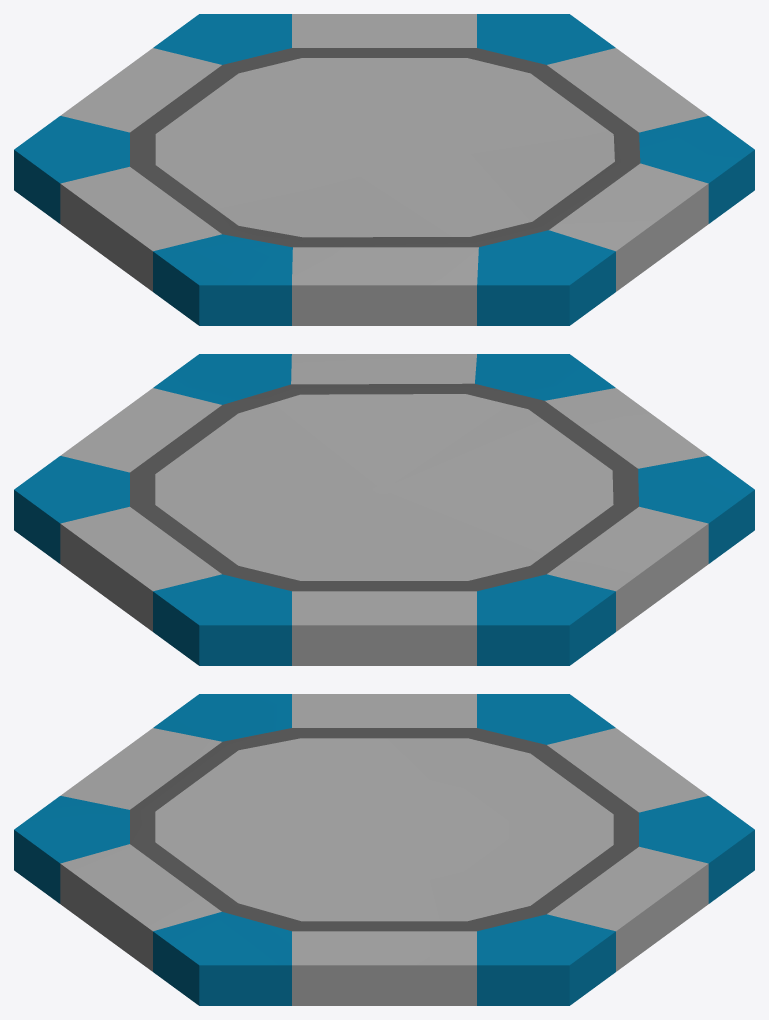
The model's file is SM_ElevatorPad.fbx.
3 views of the same model, one above another, from view 1: azimuth 30°, elevation 25°; view 2: azimuth 150°, elevation 25°; view 3: azimuth 270°, elevation 25° (orthographic).
Visible parts, largest first — view 1: ElevatorPad; view 2: ElevatorPad; view 3: ElevatorPad.
Part boxes in pixels (box(x1,y1,x2,y2)): ElevatorPad: box(14, 14, 754, 325); ElevatorPad: box(14, 354, 754, 665); ElevatorPad: box(14, 694, 754, 1005).
Bounding box in the file's own units: 572 × 43.58 × 660.
